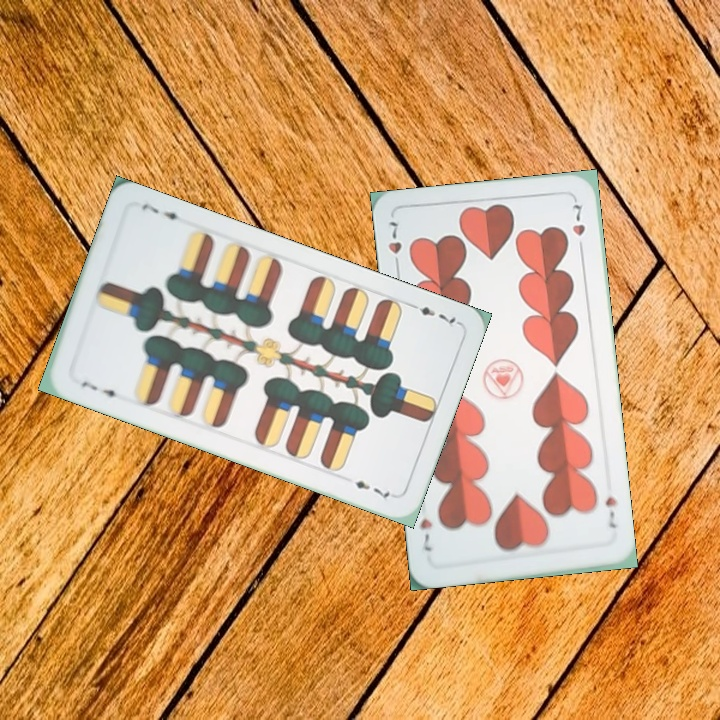E7: (404, 298, 461, 330), (77, 377, 123, 403)
H7: (384, 217, 404, 274), (601, 492, 619, 531)
